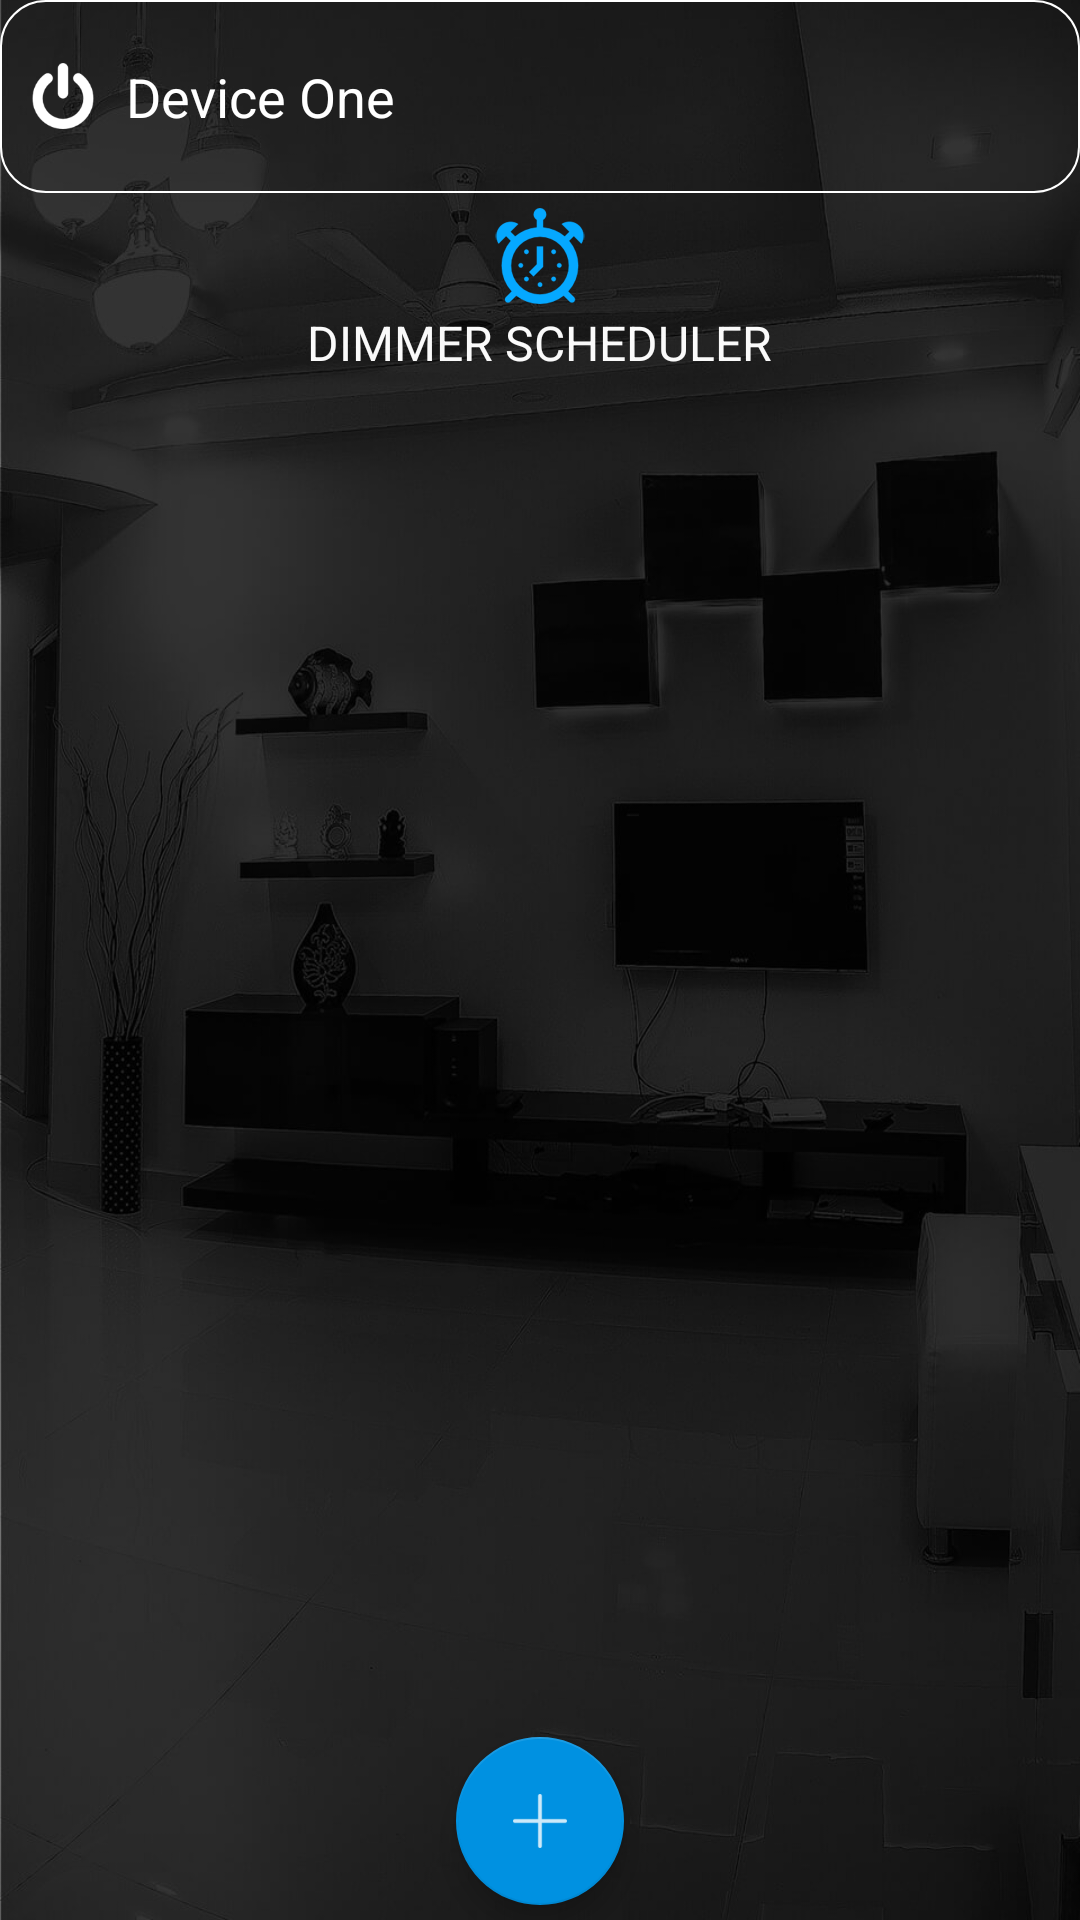

Screen size 1080px x 1920px. Icon name, then its box in pixels as (x1=x1, y1=y1, x2=x2, y2=y2):
add: (x1=456, y1=1737, x2=624, y2=1905)
